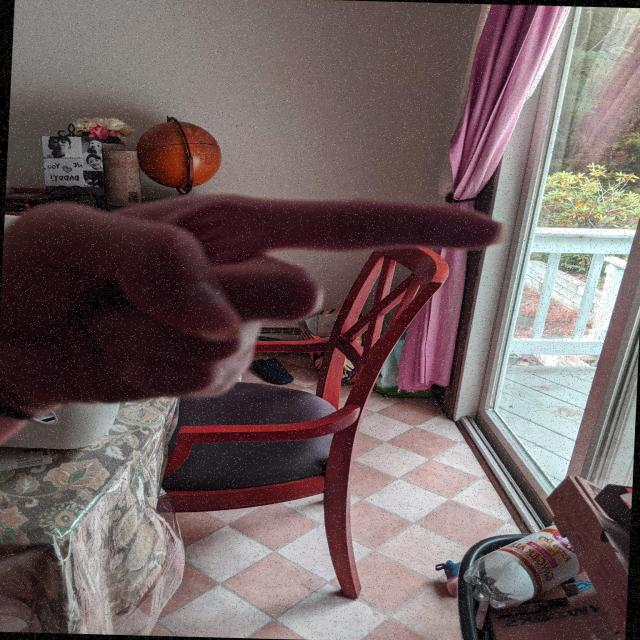G: (0, 182, 523, 425)
